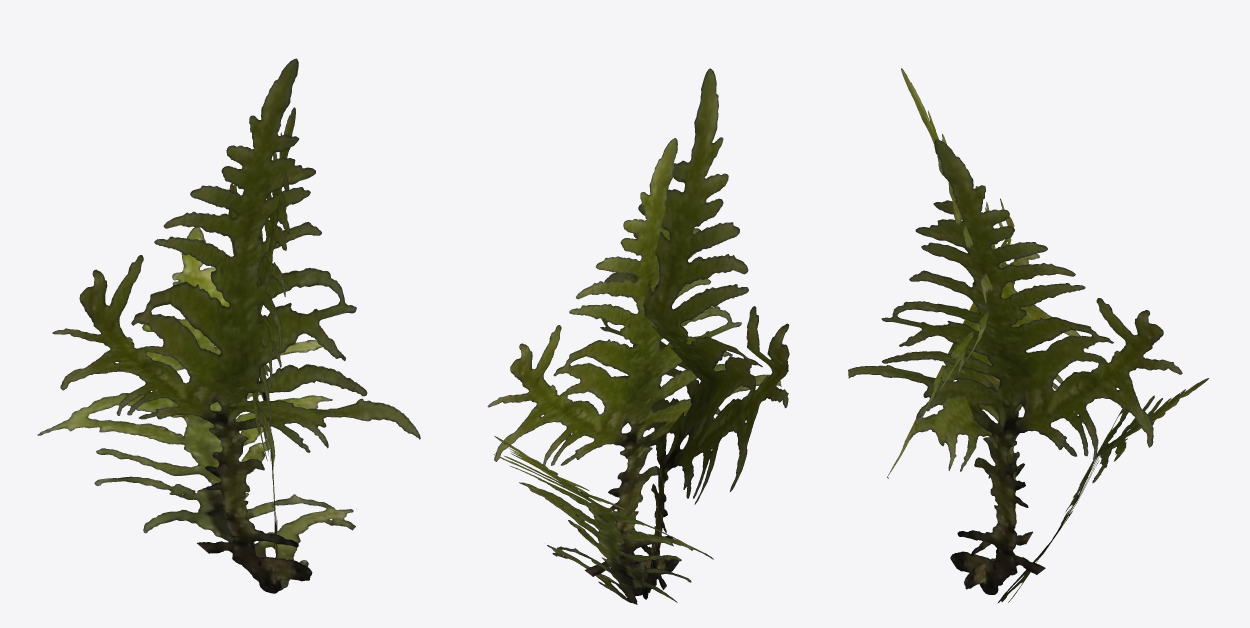
The model's file is moss_01_a_LOD1.glb.
The picture shows the model from 3 angles, left to right: view 1: azimuth 30°, elevation 25°; view 2: azimuth 150°, elevation 25°; view 3: azimuth 270°, elevation 25°; orthographic projection. The views are drawn at different scales.
Visible parts, largest first — view 1: moss_01_a_LOD1__lod0; view 2: moss_01_a_LOD1__lod0; view 3: moss_01_a_LOD1__lod0.
Boxes of the visible parts, <box> form: moss_01_a_LOD1__lod0: <box>37,58,420,593</box>; moss_01_a_LOD1__lod0: <box>487,68,789,604</box>; moss_01_a_LOD1__lod0: <box>848,68,1208,602</box>.
Size of what is drawn, in the model's own units: 0.0142 by 0.026 by 0.0159.
1 material, 1 textured.
